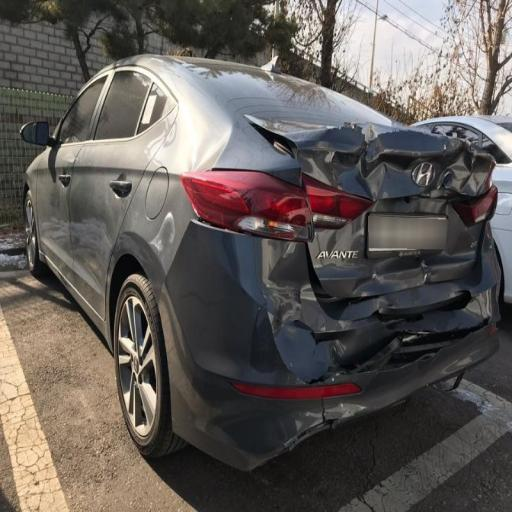broken: (242, 248, 504, 407)
dent: (224, 100, 506, 242)
